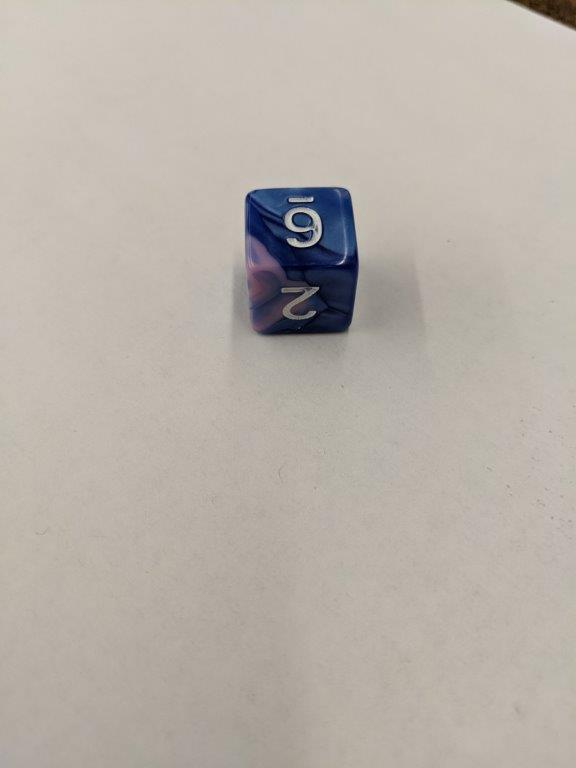d6-6: (240, 186, 361, 335)
